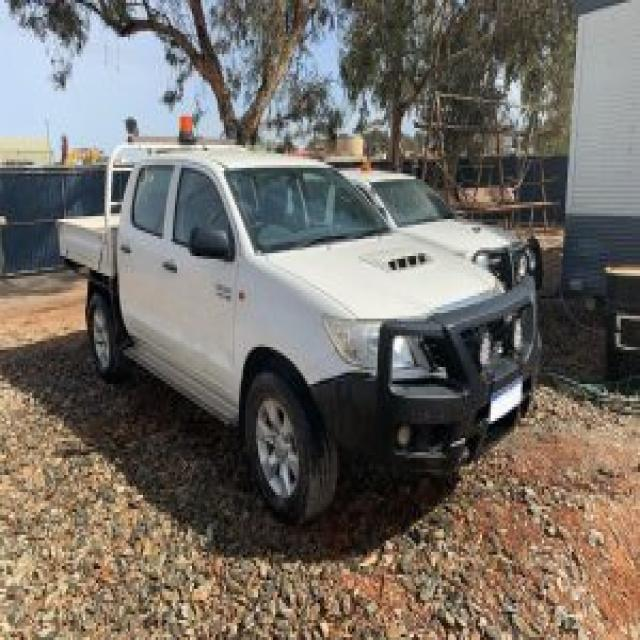light_vehicle: (47, 117, 538, 532)
